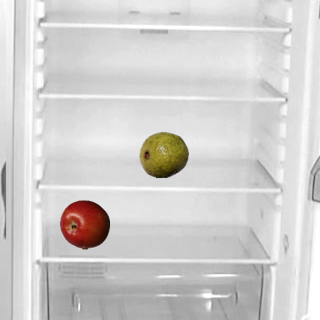Apple Braeburn: (59, 199, 109, 249)
Guava: (138, 129, 188, 179)
